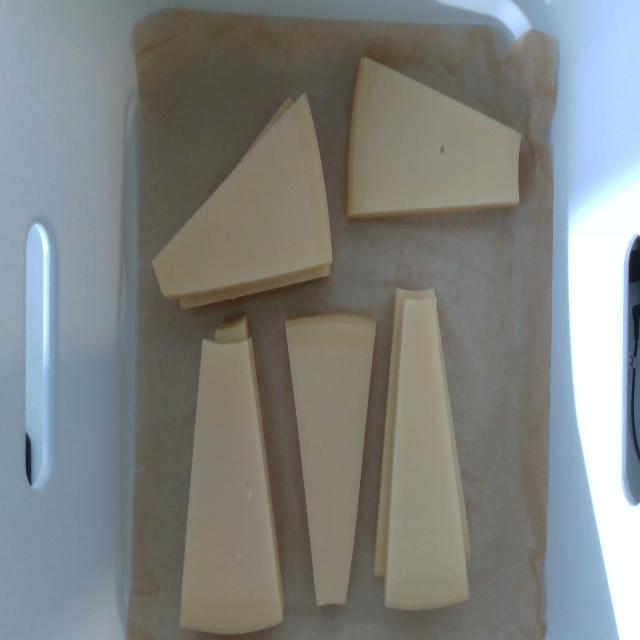cheese: (151, 92, 333, 300), (182, 340, 282, 632), (350, 59, 521, 218), (386, 297, 469, 608), (286, 321, 374, 606)
